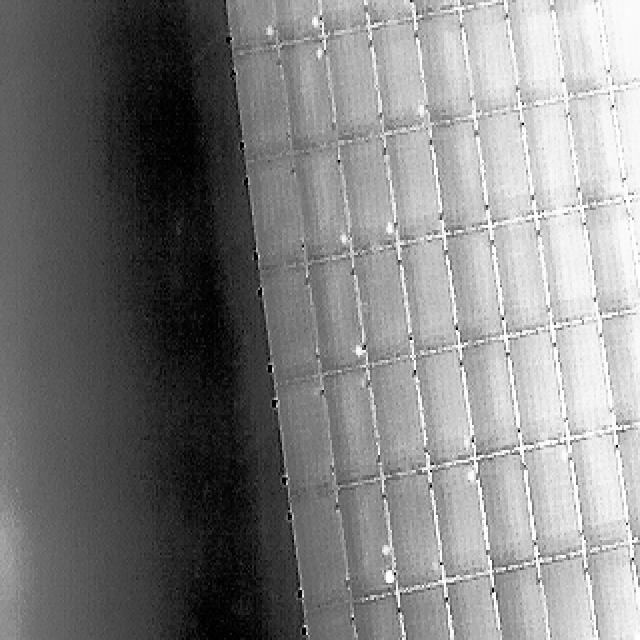Hotspots: (380, 567, 400, 589), (630, 625, 640, 640)
PV-modules: (456, 339, 526, 460), (380, 474, 448, 595), (394, 236, 463, 354), (320, 368, 386, 487), (335, 482, 399, 604), (364, 18, 430, 135), (336, 140, 401, 258), (308, 259, 372, 378), (409, 11, 474, 127), (290, 148, 354, 265), (494, 226, 557, 338), (431, 466, 493, 574), (540, 219, 597, 322), (484, 461, 538, 566), (528, 448, 581, 554), (584, 547, 640, 640), (346, 592, 414, 640), (618, 432, 640, 532), (632, 197, 640, 305), (632, 0, 640, 75)
